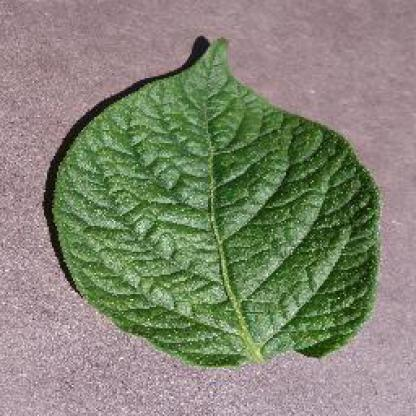good leaf: (60, 71, 358, 359)
